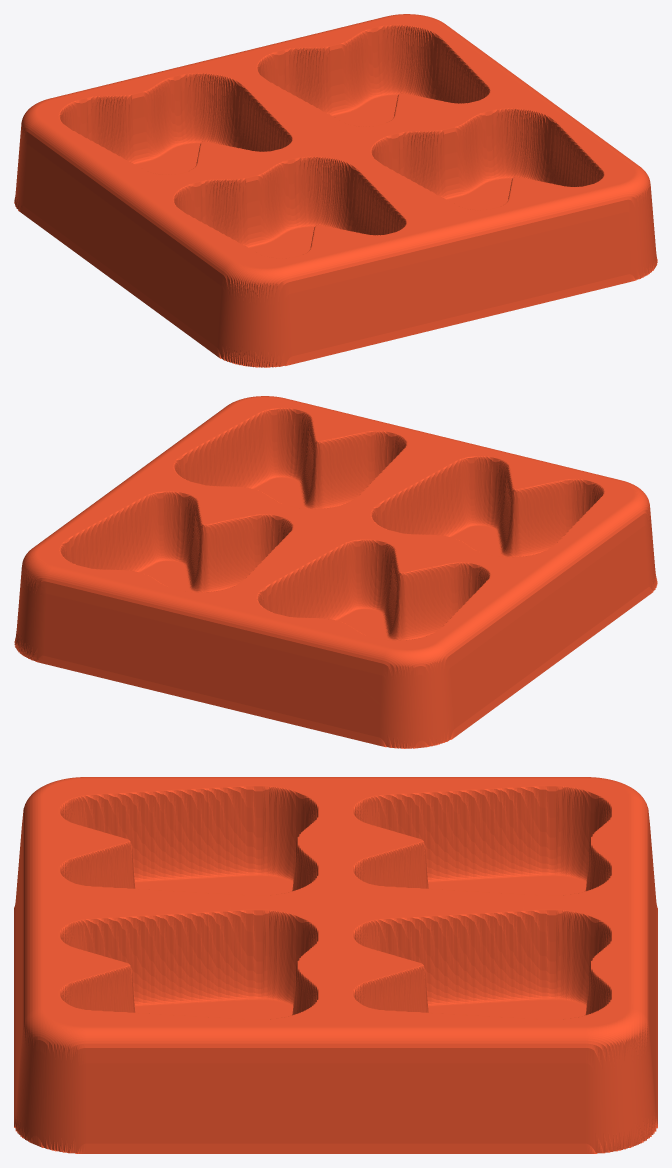
File: mold.glb
3 renders of one model, top to bottom at view 1: azimuth 30°, elevation 25°; view 2: azimuth 150°, elevation 25°; view 3: azimuth 270°, elevation 25°, orthographic. The views are drawn at different scales.
Parts seen in each view (by area): view 1: geometry_0; view 2: geometry_0; view 3: geometry_0.
Part boxes in pixels (x1=…): geometry_0: x1=14, y1=14, x2=657, y2=367; geometry_0: x1=14, y1=396, x2=657, y2=748; geometry_0: x1=14, y1=777, x2=657, y2=1153.
Size of the model in its own units: 0.0808 by 0.0159 by 0.0808.
